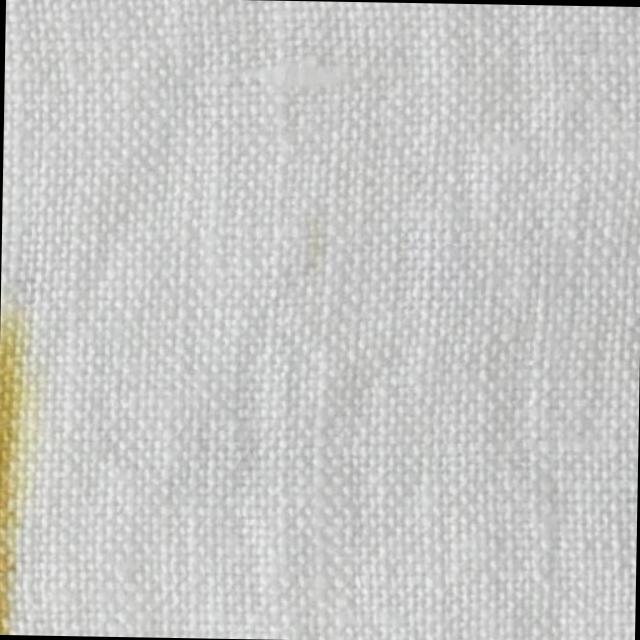Stain: (0, 298, 34, 635)
